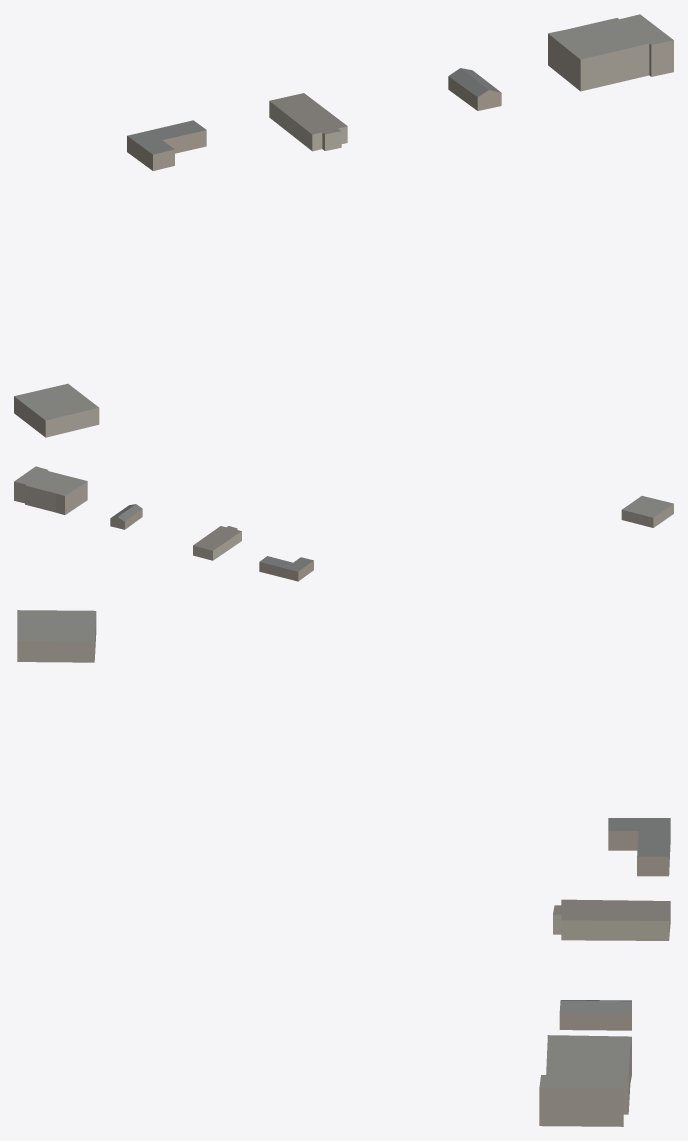
Rendered from 269c5beb395e-chunk-1204_11844.glb.
3 views of the same model, one above another, from view 1: azimuth 30°, elevation 25°; view 2: azimuth 150°, elevation 25°; view 3: azimuth 270°, elevation 25° (orthographic). The views are drawn at different scales.
Visible parts, largest first — view 1: building_137665, building_55038, building_156317, building_57307, building_128699; view 2: building_137665, building_55038, building_156317, building_57307, building_128699; view 3: building_137665, building_156317, building_55038, building_57307, building_128699.
Boxes of the visible parts, <box> form: building_137665: <box>548,14,673,91</box>; building_55038: <box>14,383,99,437</box>; building_156317: <box>269,93,347,151</box>; building_57307: <box>127,120,206,170</box>; building_128699: <box>448,68,501,110</box>; building_137665: <box>14,466,87,514</box>; building_55038: <box>621,496,673,527</box>; building_156317: <box>193,526,241,560</box>; building_57307: <box>259,556,313,581</box>; building_128699: <box>110,504,142,529</box>; building_137665: <box>539,1035,631,1126</box>; building_156317: <box>553,899,670,940</box>; building_55038: <box>17,610,96,662</box>; building_57307: <box>608,818,670,876</box>; building_128699: <box>559,1000,631,1030</box>.
Bounding box in the file's own units: 314 × 11.3 × 175.
